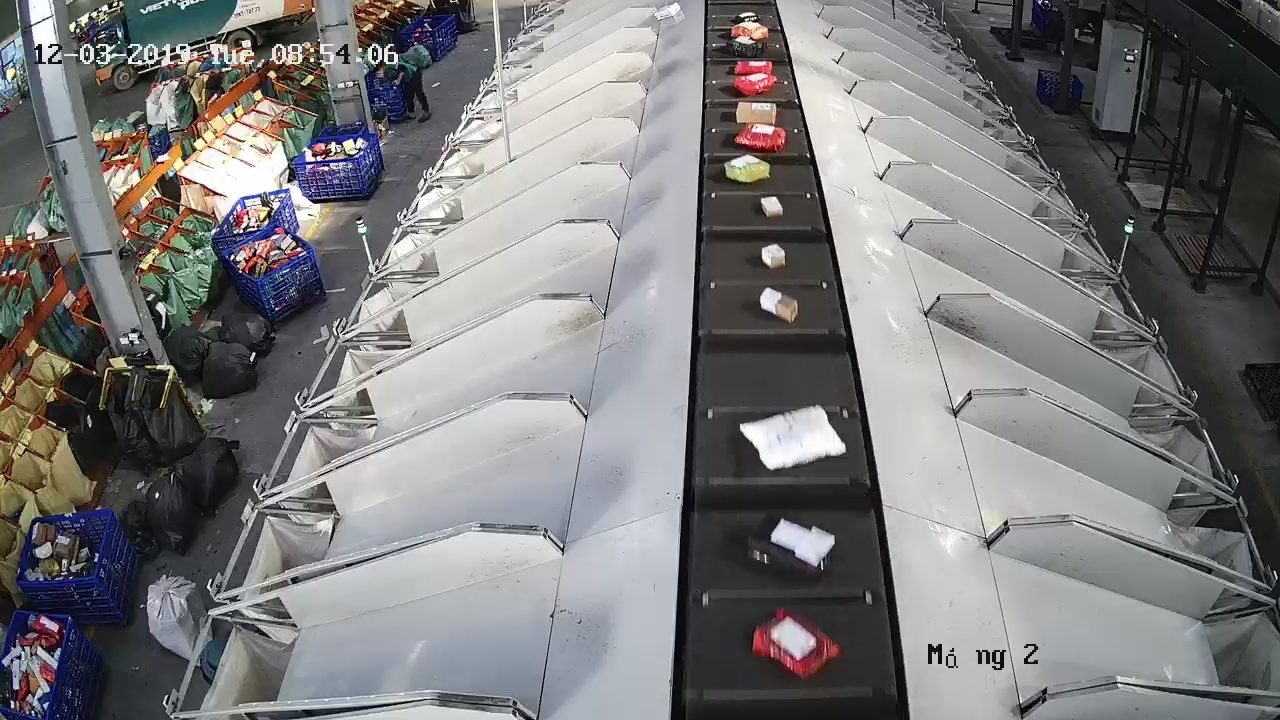parcel: (738, 402, 848, 472), (750, 608, 843, 682), (746, 513, 837, 585), (721, 152, 772, 184), (759, 287, 800, 325), (760, 243, 787, 271), (759, 196, 784, 219)
